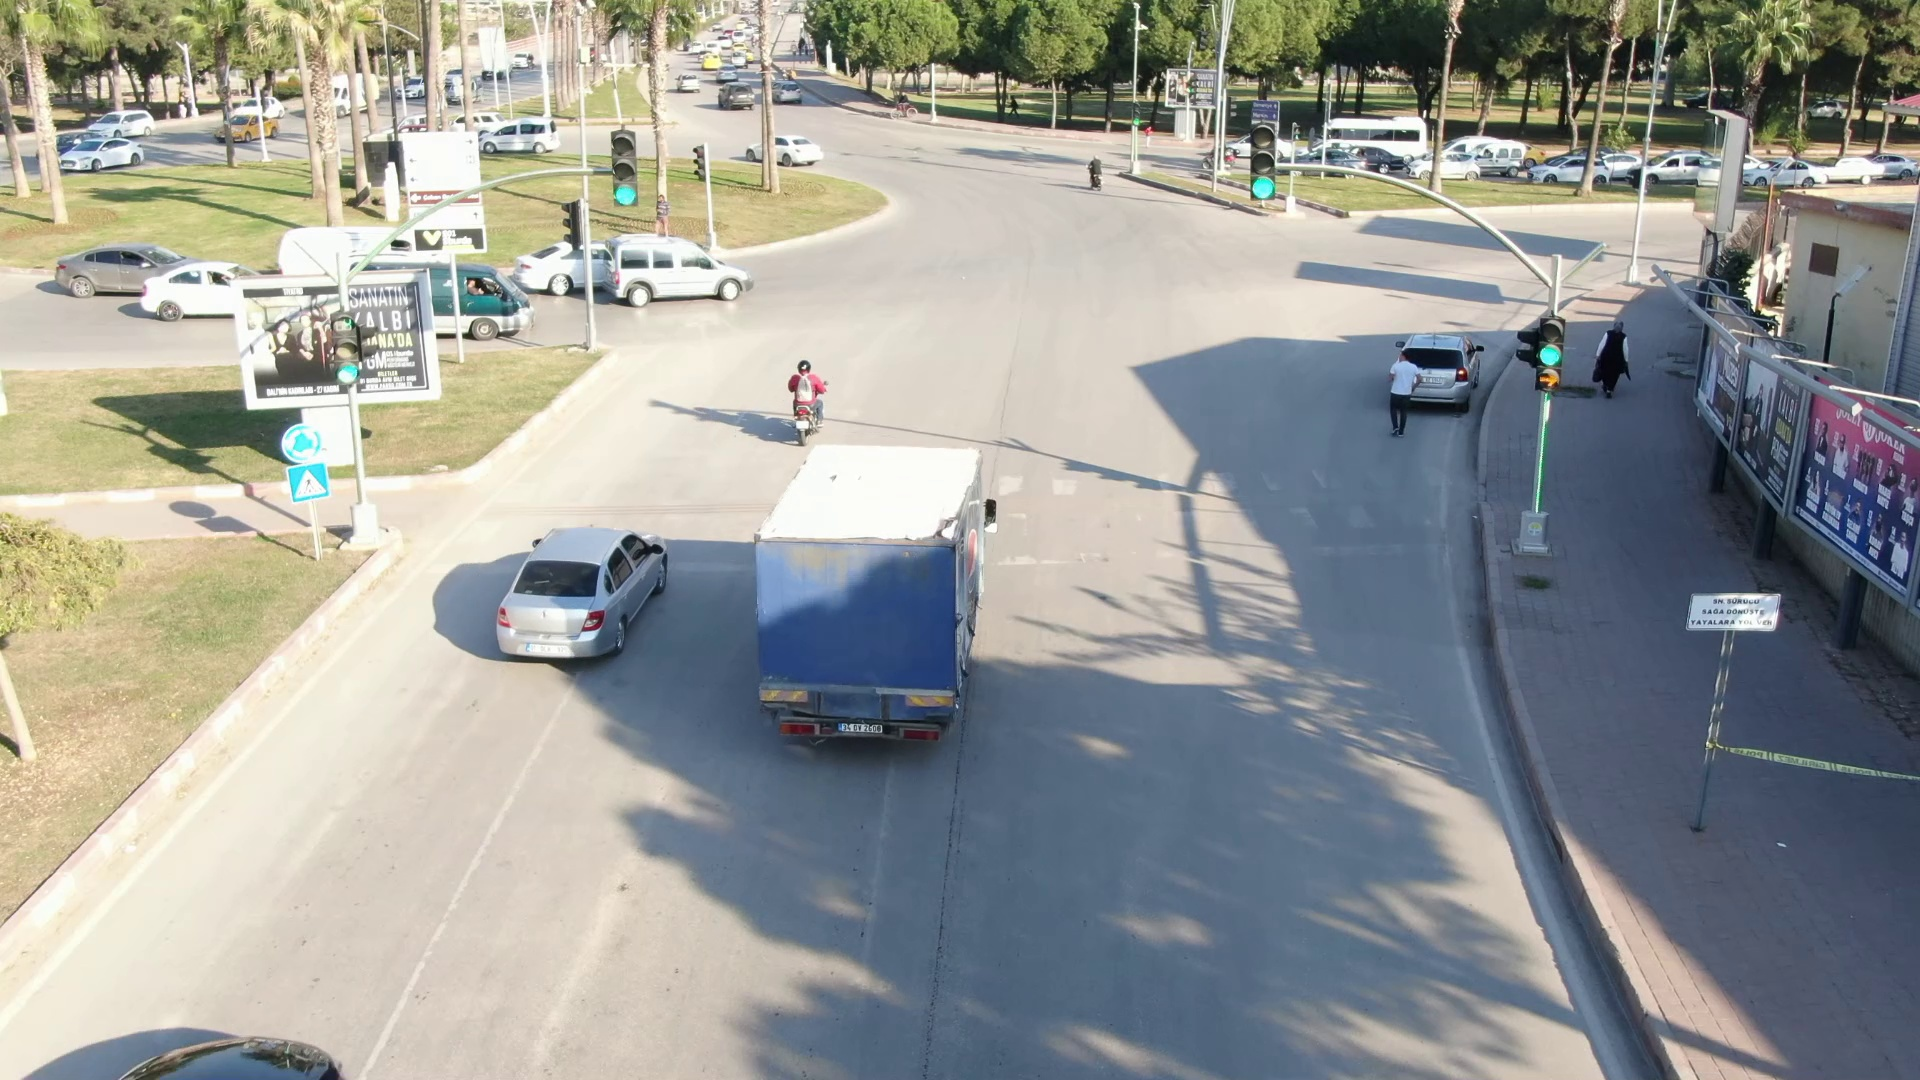car: (491, 516, 684, 667), (600, 232, 781, 318), (48, 237, 200, 306), (429, 254, 539, 343), (50, 128, 152, 179), (1520, 147, 1619, 191), (738, 123, 833, 169), (476, 116, 565, 160), (707, 77, 758, 114)
person: (1582, 309, 1643, 408), (777, 349, 847, 413), (1382, 335, 1421, 435)
